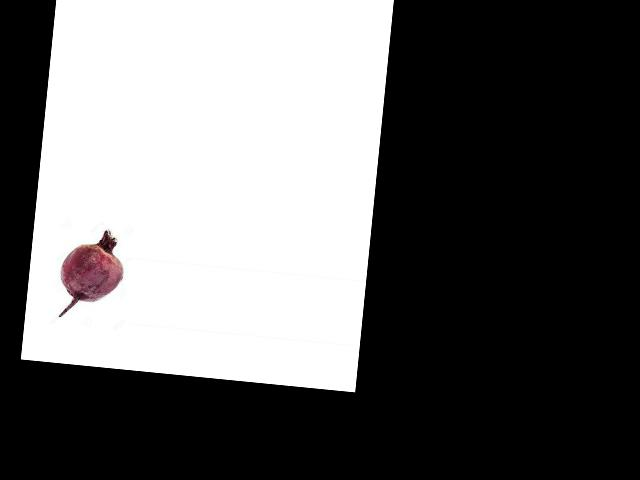beet: (56, 225, 126, 322)
